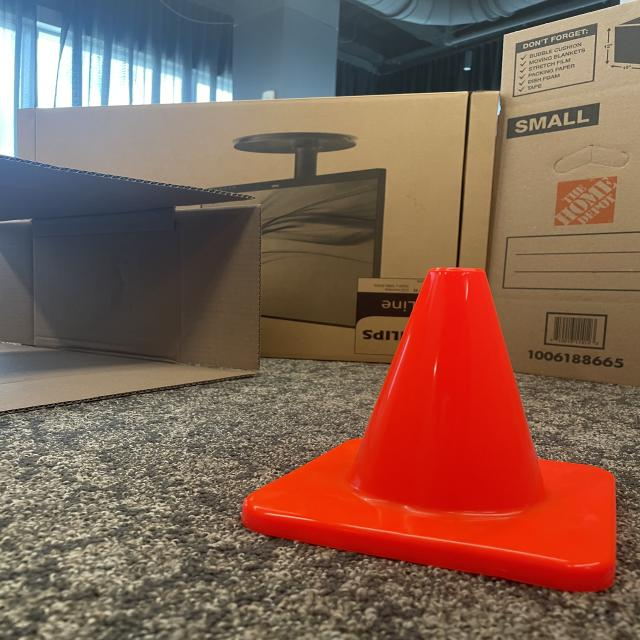Traffic Cone: (243, 267, 620, 592)
